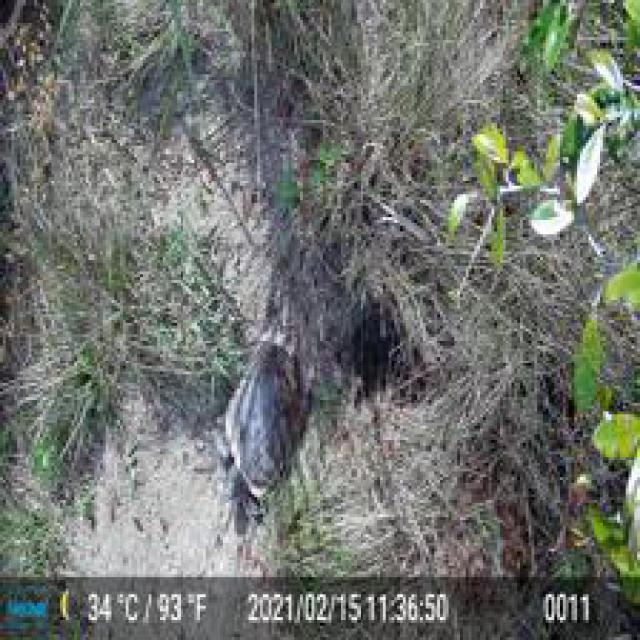tortoise: (215, 340, 312, 511)
